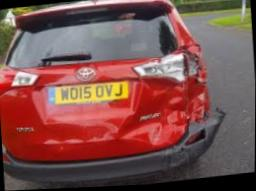Bumper: (133, 94, 226, 182)
Dickey: (111, 42, 194, 161)
Light: (134, 51, 186, 83)
